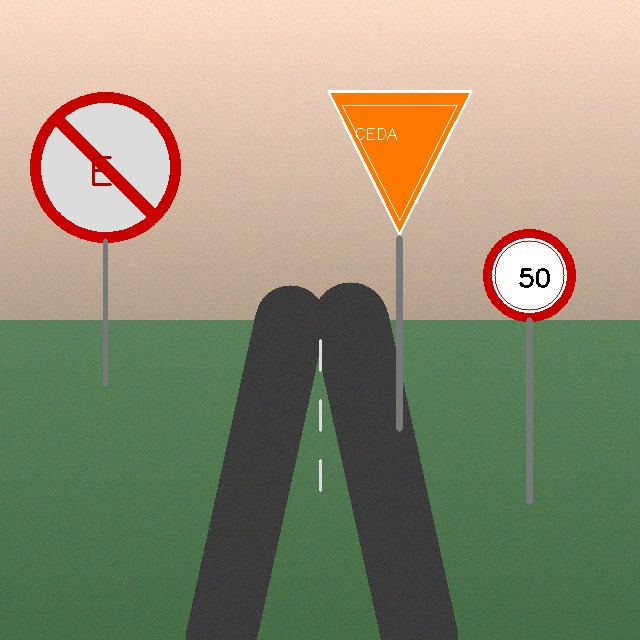ceda_el_paso: (324, 87, 475, 238)
no_estacionar: (33, 95, 178, 240)
velocidad: (485, 231, 574, 320)
